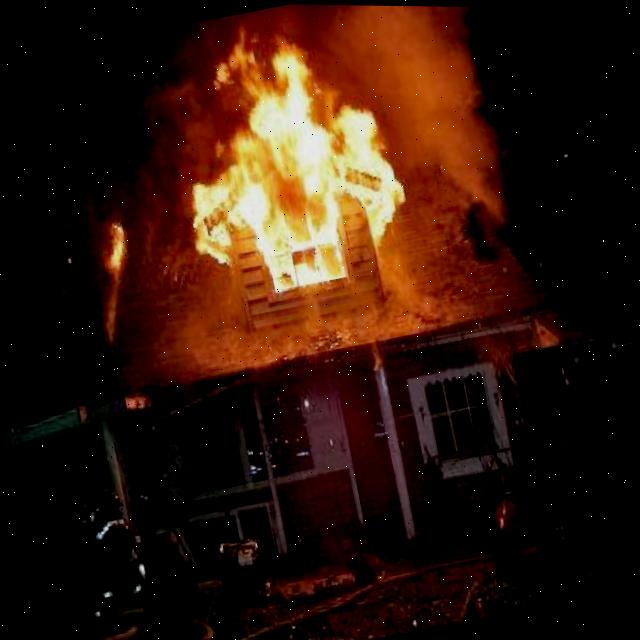fire: (193, 45, 405, 290)
smoke: (157, 3, 521, 366)
